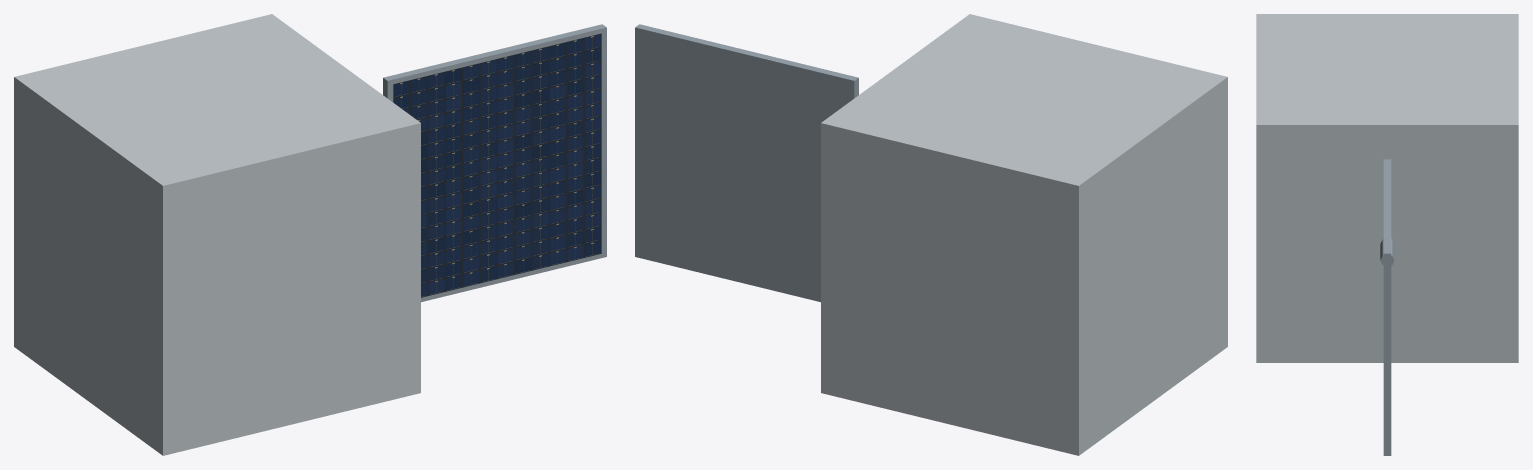
Rendered from ref-pace-58928.glb.
The picture shows the model from 3 angles, left to right: view 1: azimuth 30°, elevation 25°; view 2: azimuth 150°, elevation 25°; view 3: azimuth 270°, elevation 25°; orthographic projection. The views are drawn at different scales.
Visible parts, largest first — view 1: Spacecraft body, Photovoltaic laminates, Array frame; view 2: Spacecraft body, Array frame; view 3: Spacecraft body, Array frame.
Part boxes in pixels (<box>): Spacecraft body: <box>14,14,420,455</box>; Photovoltaic laminates: <box>393,33,601,297</box>; Array frame: <box>383,24,606,302</box>; Spacecraft body: <box>821,14,1227,455</box>; Array frame: <box>635,24,858,302</box>; Spacecraft body: <box>1256,14,1518,362</box>; Array frame: <box>1383,159,1391,455</box>.
Bounding box in the file's own units: 3 × 1.5 × 1.5.
3 materials, 1 textured.
